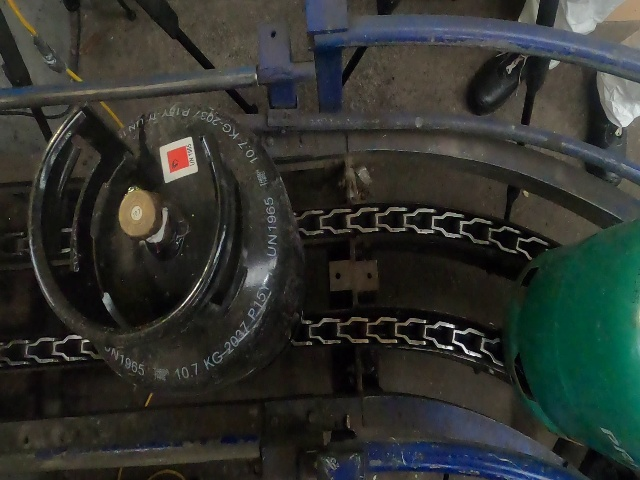gas_bottle: (2, 1, 640, 480)
